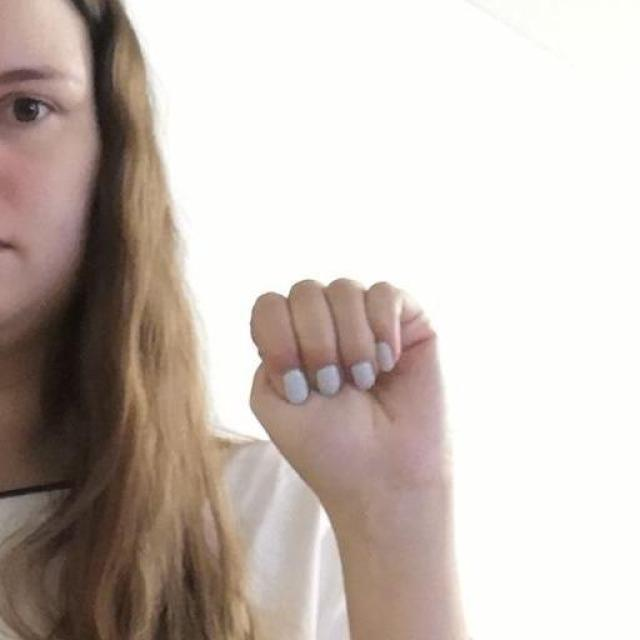hand: (246, 275, 455, 541)
